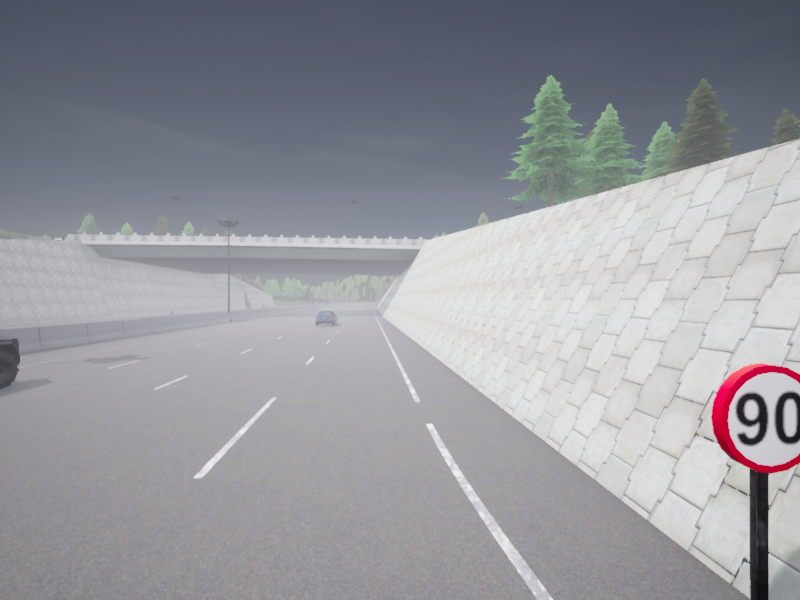vehicle: (0, 335, 19, 389), (315, 311, 337, 325)
